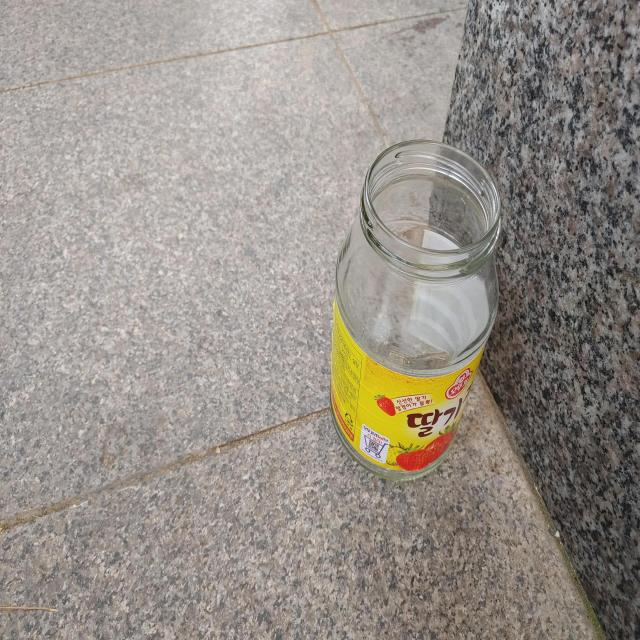glass: (330, 140, 500, 480)
